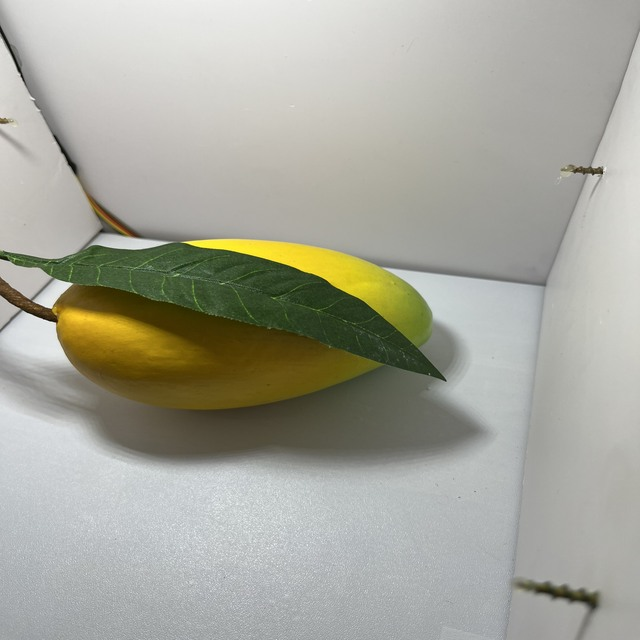Xoai: (41, 227, 442, 414)
